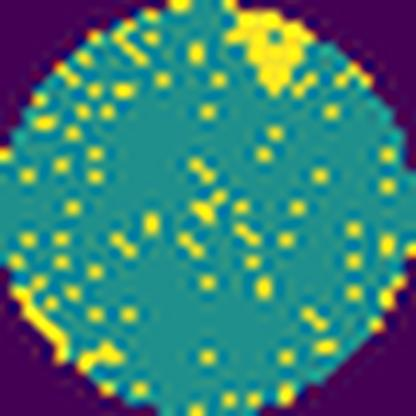Edge-Loc: (228, 0, 318, 98)
